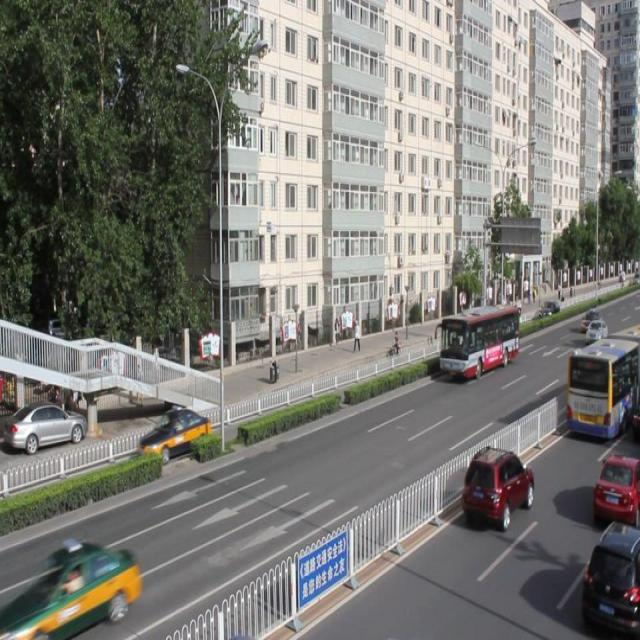car: (0, 545, 140, 640), (578, 518, 640, 628), (462, 446, 532, 528), (140, 410, 211, 460), (594, 450, 640, 526)
van: (566, 325, 640, 437), (440, 304, 518, 376)
